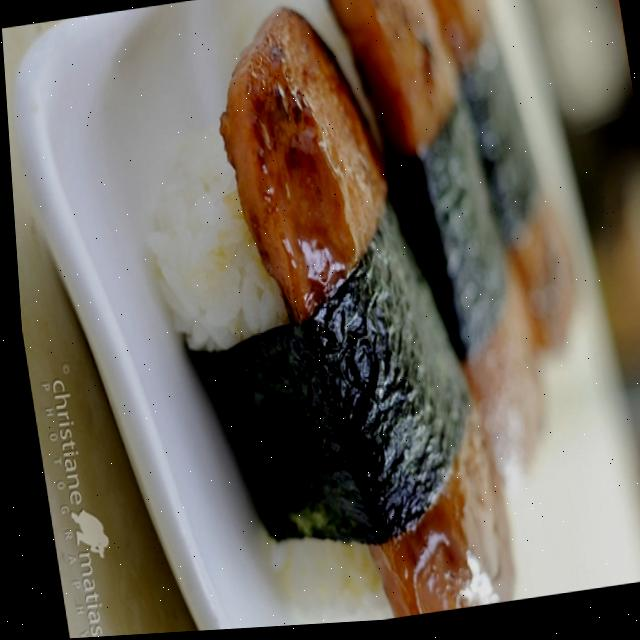寿司卷物: (88, 0, 603, 636)
